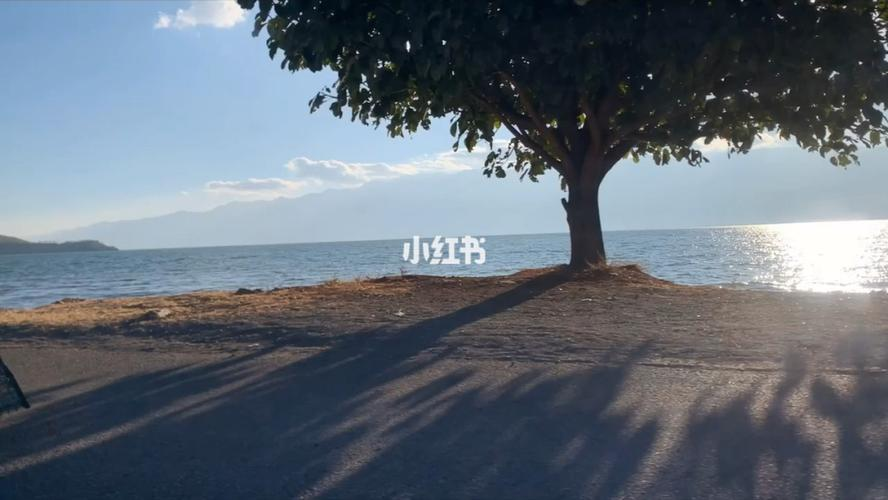sea_river: (58, 236, 854, 291)
sky_cloud: (27, 21, 284, 173)
